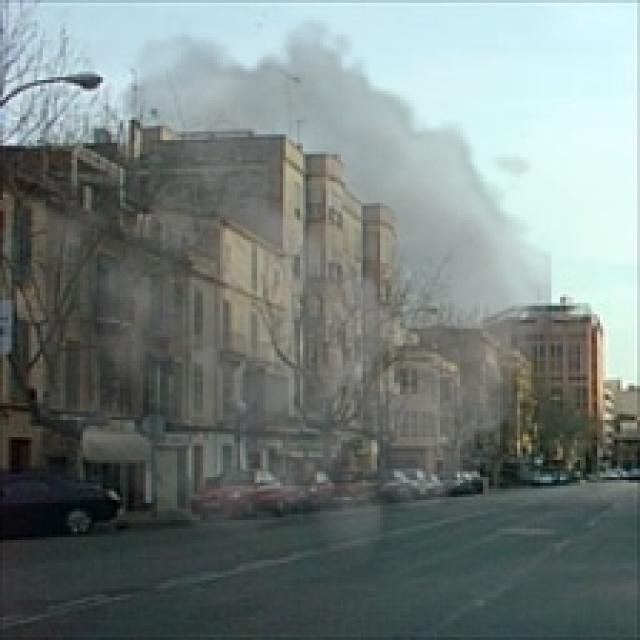smoke: (34, 14, 552, 577)
